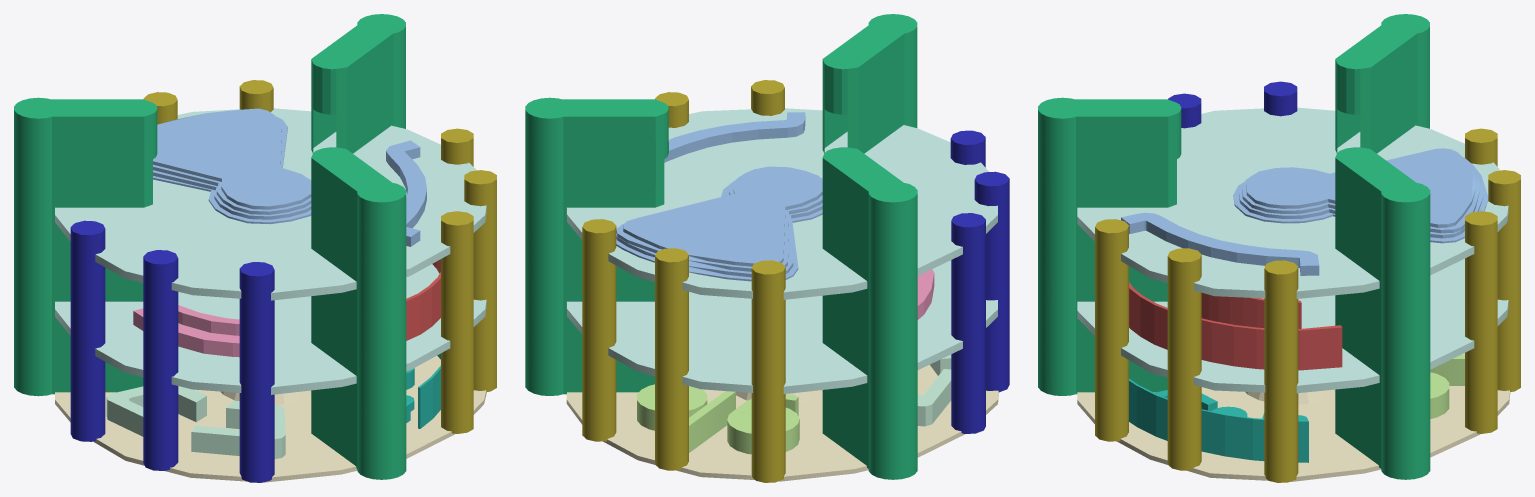
Rendered from Collider.glb.
3 views of the same model, side by side, from view 1: azimuth 30°, elevation 25°; view 2: azimuth 150°, elevation 25°; view 3: azimuth 270°, elevation 25° (orthographic).
Visible parts, largest first — view 1: Muri_Collider, pavimentofloor_Collider, colonne3_collider, palcoFloor_Collider, pavimentoPrimoP_Collider, colonne1_collider, pavimento_p_terra_Collider, divanoterra_Collider, divano_primoP_Collider, colonne2_collider, galleriaVideo_Collider, cornerPianoTerra_collider; view 2: Muri_Collider, pavimentofloor_Collider, colonne2_collider, pavimentoPrimoP_Collider, palcoFloor_Collider, colonne3_collider, pavimento_p_terra_Collider, scrittaGlo_Collider, colonne1_collider, divanoterra_Collider, divano_primoP_Collider; view 3: Muri_Collider, pavimentofloor_Collider, colonne1_collider, palcoFloor_Collider, colonne2_collider, pavimentoPrimoP_Collider, pavimento_p_terra_Collider, galleriaVideo_Collider, cornerPianoTerra_collider, colonne3_collider, scrittaGlo_Collider.
Part boxes in pixels (bbox=[...]): Muri_Collider: bbox=[14, 14, 406, 479]; pavimentofloor_Collider: bbox=[55, 108, 486, 300]; colonne3_collider: bbox=[70, 220, 274, 482]; palcoFloor_Collider: bbox=[153, 108, 426, 246]; pavimentoPrimoP_Collider: bbox=[55, 264, 486, 394]; colonne1_collider: bbox=[441, 128, 496, 433]; pavimento_p_terra_Collider: bbox=[55, 355, 486, 482]; divanoterra_Collider: bbox=[106, 386, 285, 458]; divano_primoP_Collider: bbox=[133, 305, 239, 357]; colonne2_collider: bbox=[143, 80, 273, 124]; galleriaVideo_Collider: bbox=[406, 259, 440, 340]; cornerPianoTerra_collider: bbox=[406, 353, 440, 428]; Muri_Collider: bbox=[525, 14, 917, 479]; pavimentofloor_Collider: bbox=[566, 108, 997, 299]; colonne2_collider: bbox=[582, 219, 785, 482]; pavimentoPrimoP_Collider: bbox=[566, 260, 997, 393]; palcoFloor_Collider: bbox=[616, 112, 822, 281]; colonne3_collider: bbox=[950, 130, 1009, 433]; pavimento_p_terra_Collider: bbox=[566, 365, 998, 481]; scrittaGlo_Collider: bbox=[637, 384, 799, 454]; colonne1_collider: bbox=[655, 80, 784, 127]; divanoterra_Collider: bbox=[917, 354, 951, 426]; divano_primoP_Collider: bbox=[917, 269, 934, 319]; Muri_Collider: bbox=[1038, 14, 1430, 479]; pavimentofloor_Collider: bbox=[1077, 107, 1508, 298]; colonne1_collider: bbox=[1095, 219, 1298, 482]; palcoFloor_Collider: bbox=[1121, 148, 1488, 275]; colonne2_collider: bbox=[1465, 128, 1520, 433]; pavimentoPrimoP_Collider: bbox=[1077, 258, 1508, 393]; pavimento_p_terra_Collider: bbox=[1077, 353, 1510, 481]; galleriaVideo_Collider: bbox=[1129, 282, 1342, 370]; cornerPianoTerra_collider: bbox=[1129, 378, 1308, 462]; colonne3_collider: bbox=[1168, 81, 1297, 128]; scrittaGlo_Collider: bbox=[1430, 354, 1464, 418].
Size of the model in its own units: 27.69 by 18.56 by 28.99.
